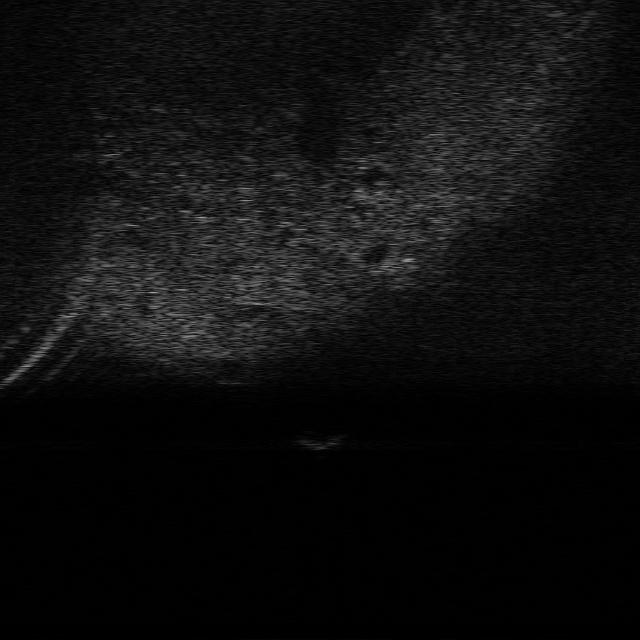cube: (302, 427, 342, 452)
